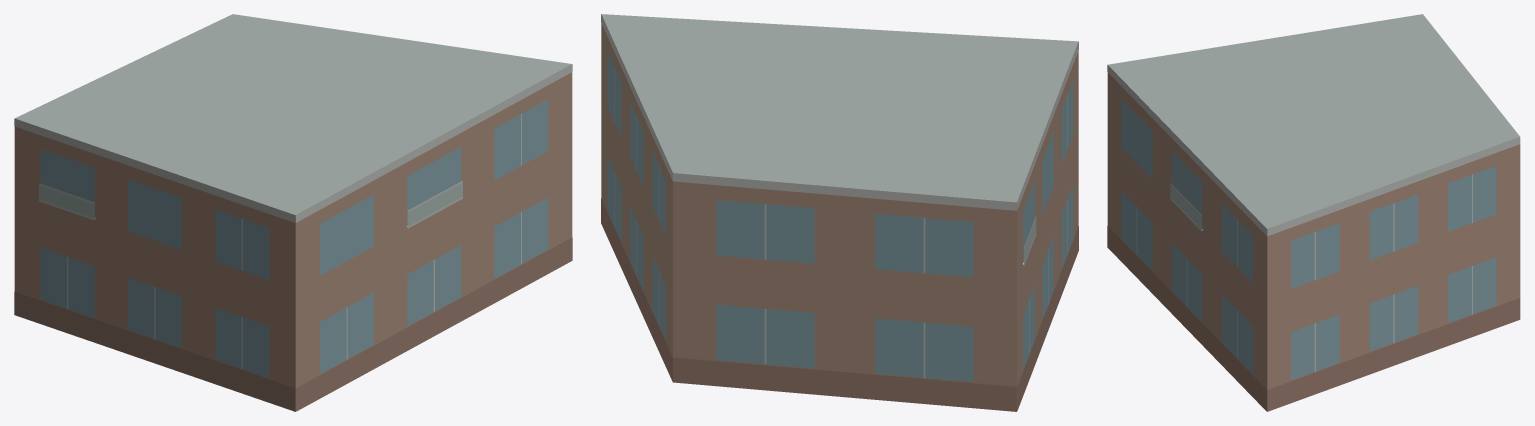
Rendered from survey-upis-32797627.glb.
3 renders of one model, left to right at view 1: azimuth 30°, elevation 25°; view 2: azimuth 150°, elevation 25°; view 3: azimuth 270°, elevation 25°, orthographic. The views are drawn at different scales.
Visible parts, largest first — view 1: survey-upis-32797627.tmp; view 2: survey-upis-32797627.tmp; view 3: survey-upis-32797627.tmp.
Part boxes in pixels (left/top/right/bottom): survey-upis-32797627.tmp: left=14, top=14, right=572, bottom=411; survey-upis-32797627.tmp: left=601, top=14, right=1078, bottom=411; survey-upis-32797627.tmp: left=1107, top=14, right=1520, bottom=411.
Size of the model in its own units: 15.41 by 6.1 by 12.49.
